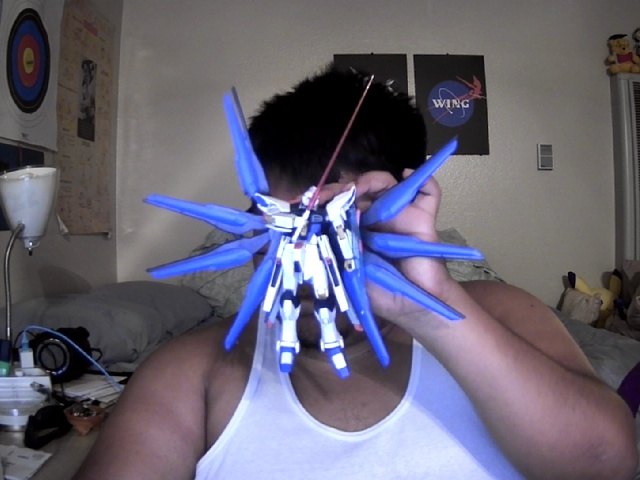Freedom-Destiny: (140, 74, 487, 380)
